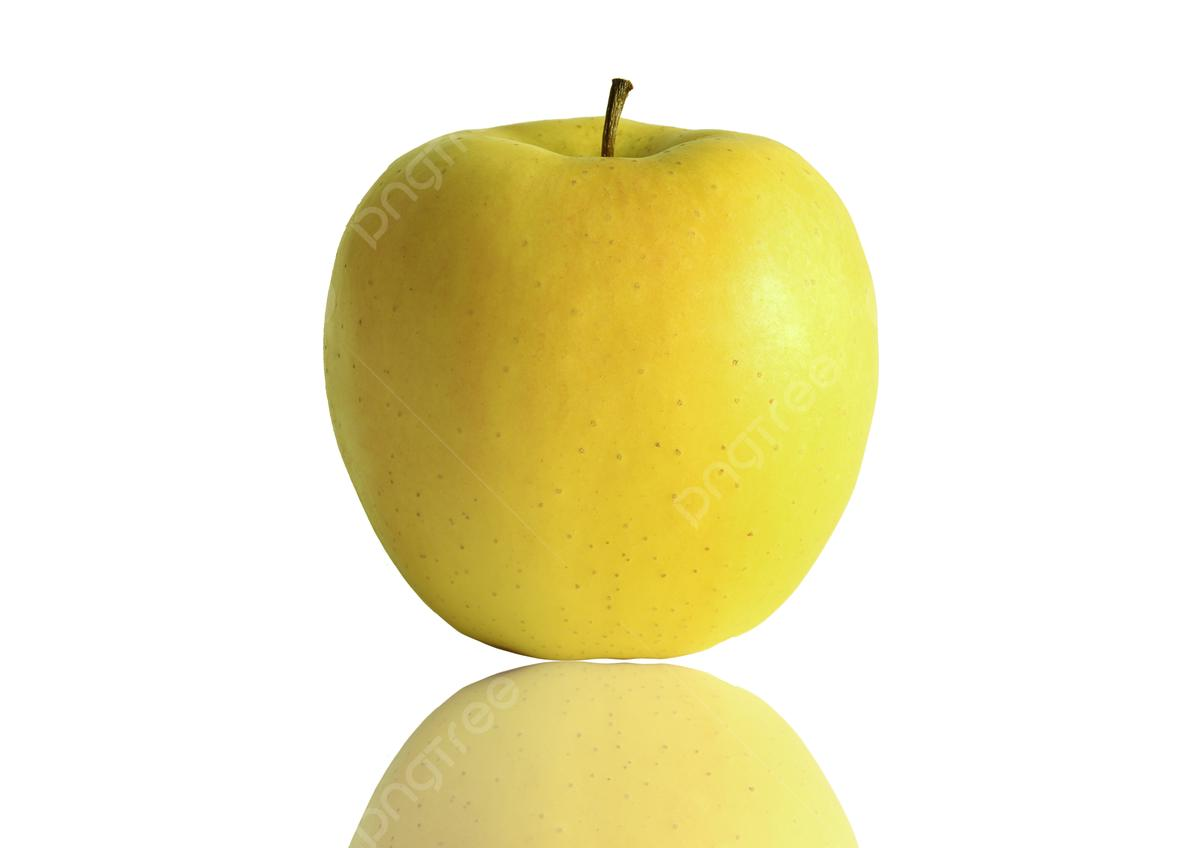apples: (265, 56, 907, 684)
